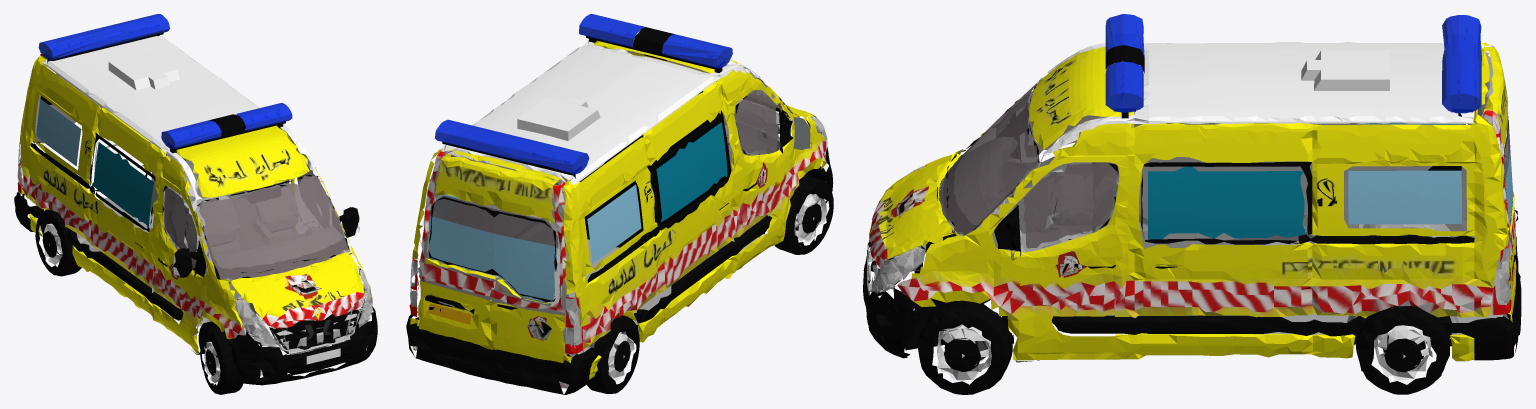
Rendered from ambulance.glb.
The picture shows the model from 3 angles, left to right: view 1: azimuth 30°, elevation 25°; view 2: azimuth 150°, elevation 25°; view 3: azimuth 270°, elevation 25°; orthographic projection. The views are drawn at different scales.
Visible parts, largest first — view 1: carrosserie, wheel_3, wheel_2; view 2: carrosserie, wheel_3, wheel_2; view 3: carrosserie, wheel_0, wheel_1.
Boxes of the visible parts, <box> form: carrosserie: <box>14,14,377,385</box>; wheel_3: <box>200,325,258,394</box>; wheel_2: <box>35,208,81,276</box>; carrosserie: <box>406,14,833,394</box>; wheel_3: <box>764,174,833,254</box>; wheel_2: <box>587,315,639,393</box>; carrosserie: <box>863,14,1521,362</box>; wheel_0: <box>905,300,1012,394</box>; wheel_1: <box>1355,306,1451,394</box>.
Bounding box in the file's own units: 5.43 × 5.93 × 12.05.
Materials: 33 (3 with a texture image).
